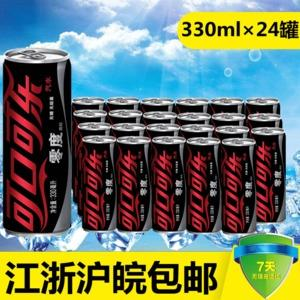coke_zero: (1, 43, 79, 240), (179, 132, 229, 239), (75, 133, 119, 235), (114, 134, 155, 235), (150, 135, 190, 235), (220, 135, 259, 236)
